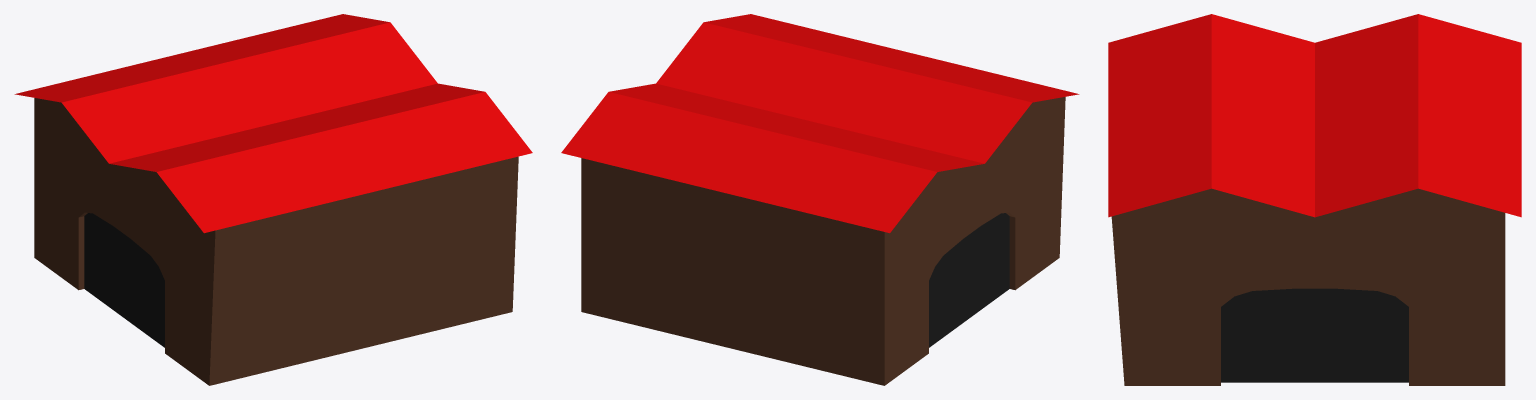
The model's file is Warehouse1.fbx.
The picture shows the model from 3 angles, left to right: view 1: azimuth 30°, elevation 25°; view 2: azimuth 150°, elevation 25°; view 3: azimuth 270°, elevation 25°; orthographic projection. The views are drawn at different scales.
Parts seen in each view (by area): view 1: Cube; view 2: Cube; view 3: Cube.
Boxes of the visible parts, left/top/right/bottom form: Cube: left=14, top=14, right=532, bottom=385; Cube: left=561, top=14, right=1079, bottom=385; Cube: left=1108, top=14, right=1521, bottom=385.
Bounding box in the file's own units: 325 × 325 × 177.
